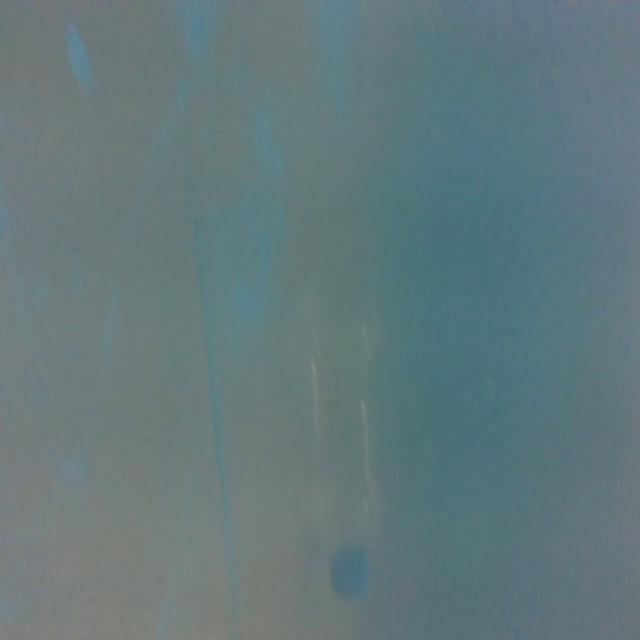plastic bottle: (286, 288, 398, 602)
